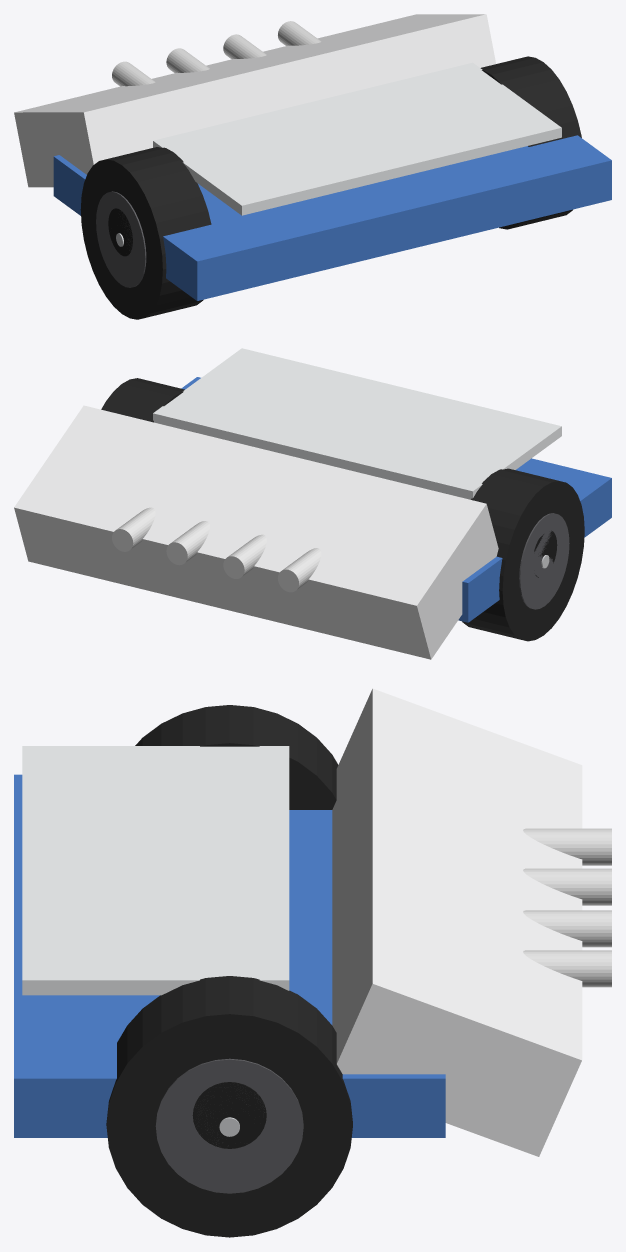
Rendered from robo_profissional.glb.
3 renders of one model, top to bottom at view 1: azimuth 30°, elevation 25°; view 2: azimuth 150°, elevation 25°; view 3: azimuth 270°, elevation 25°, orthographic. The views are drawn at different scales.
Visible parts, largest first — view 1: Chassi_Azul, Tampa_Transparente, Wedge, Tire_-0.78, Tire_0.78, Hub_-0.78, Cilindro.006, Cilindro.001, Cilindro.002, Cilindro.003, Cilindro; view 2: Wedge, Tampa_Transparente, Tire_-0.78, Chassi_Azul, Hub_-0.78, Tire_0.78, Cilindro.003, Cilindro, Cilindro.001, Cilindro.002; view 3: Wedge, Tampa_Transparente, Tire_0.78, Chassi_Azul, Hub_0.78, Tire_-0.78, Cilindro.007, Cilindro, Cilindro.001, Cilindro.002, Cilindro.003.
Part boxes in pixels (left/top/right/bottom): Chassi_Azul: left=53, top=135, right=611, bottom=300; Tampa_Transparente: left=153, top=62, right=561, bottom=215; Wedge: left=14, top=14, right=495, bottom=187; Tire_-0.78: left=80, top=147, right=211, bottom=319; Tire_0.78: left=480, top=56, right=581, bottom=229; Hub_-0.78: left=96, top=191, right=146, bottom=287; Cilindro.006: left=108, top=208, right=132, bottom=256; Cilindro.001: left=166, top=48, right=209, bottom=72; Cilindro.002: left=223, top=34, right=266, bottom=59; Cilindro.003: left=278, top=21, right=321, bottom=45; Cilindro: left=112, top=61, right=155, bottom=86; Wedge: left=14, top=405, right=498, bottom=659; Tampa_Transparente: left=153, top=348, right=561, bottom=499; Tire_-0.78: left=462, top=468, right=584, bottom=641; Chassi_Azul: left=181, top=377, right=611, bottom=622; Hub_-0.78: left=519, top=513, right=569, bottom=609; Tire_0.78: left=101, top=378, right=184, bottom=422; Cilindro.003: left=112, top=507, right=155, bottom=551; Cilindro: left=277, top=548, right=321, bottom=592; Cilindro.001: left=223, top=534, right=266, bottom=578; Cilindro.002: left=166, top=521, right=209, bottom=565; Wedge: left=332, top=688, right=582, bottom=1156; Tampa_Transparente: left=22, top=746, right=289, bottom=995; Tire_0.78: left=106, top=976, right=352, bottom=1237; Chassi_Azul: left=14, top=774, right=445, bottom=1137; Hub_0.78: left=155, top=1058, right=303, bottom=1193; Tire_-0.78: left=135, top=705, right=338, bottom=809; Cilindro.007: left=192, top=1082, right=266, bottom=1148; Cilindro: left=523, top=828, right=611, bottom=865; Cilindro.001: left=523, top=868, right=611, bottom=905; Cilindro.002: left=523, top=910, right=611, bottom=947; Cilindro.003: left=523, top=950, right=611, bottom=987.
Size of what is drawn, in the model's own units: 1.8 by 0.6628 by 1.45.
